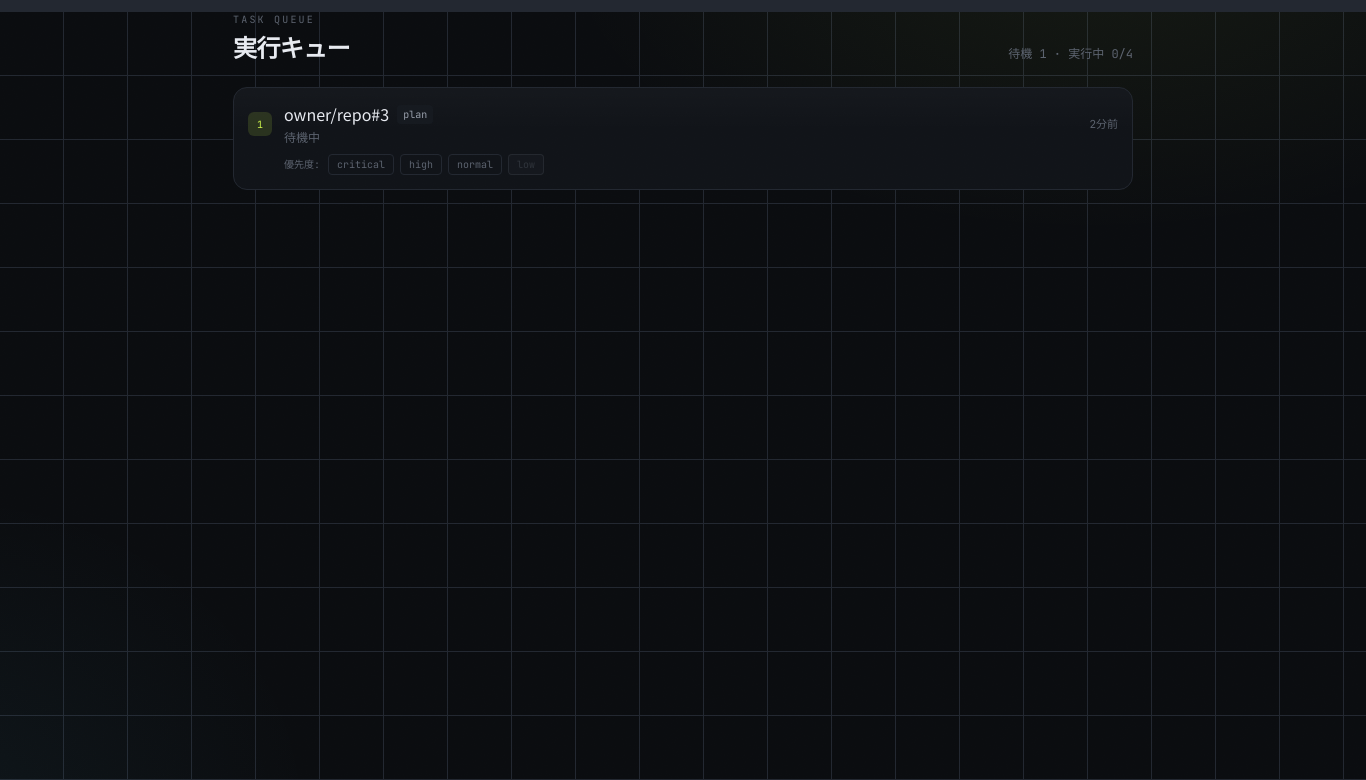
QueuePage › 優先度変更 API 失敗でエラーメッセージが出る
Click the button titled "優先度: critical" at (361, 164), box [328,154,394,175]
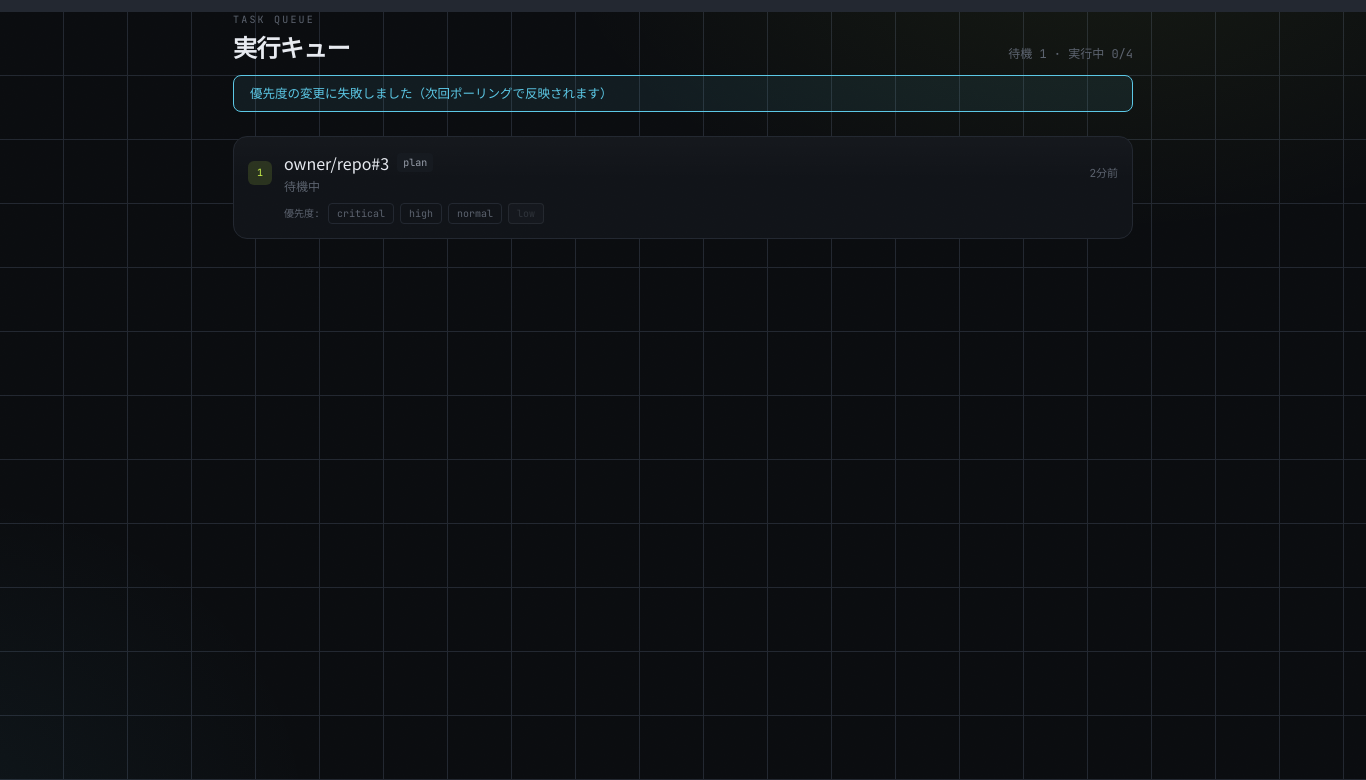
Expected: the text "優先度の変更に失敗しました（次回ポーリングで反映されます）" is shown, [233,75,1133,112]
